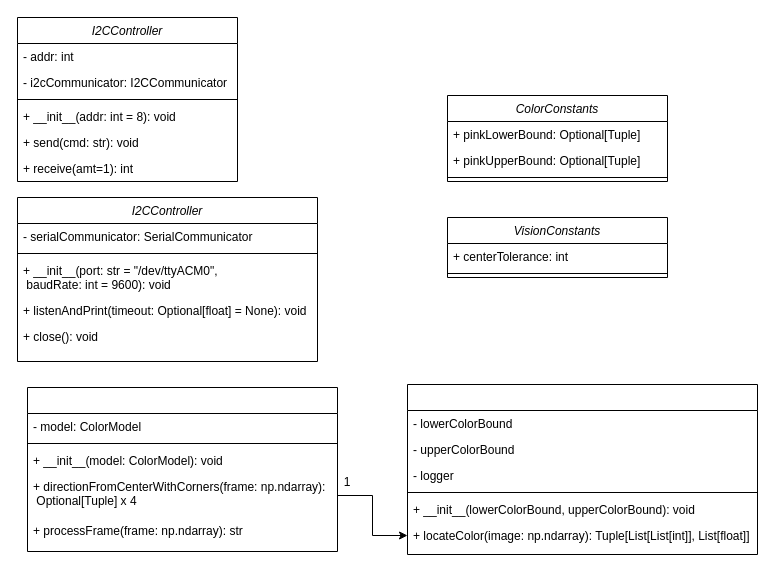
Some shapes in this 775 by 572 pixel diagram are drawn without their labels. The box of each missing label's shape, as (x1, y1, x2, y2) in pixels:
ColorModel: (406, 384, 758, 554)
VisionController: (26, 386, 338, 552)
